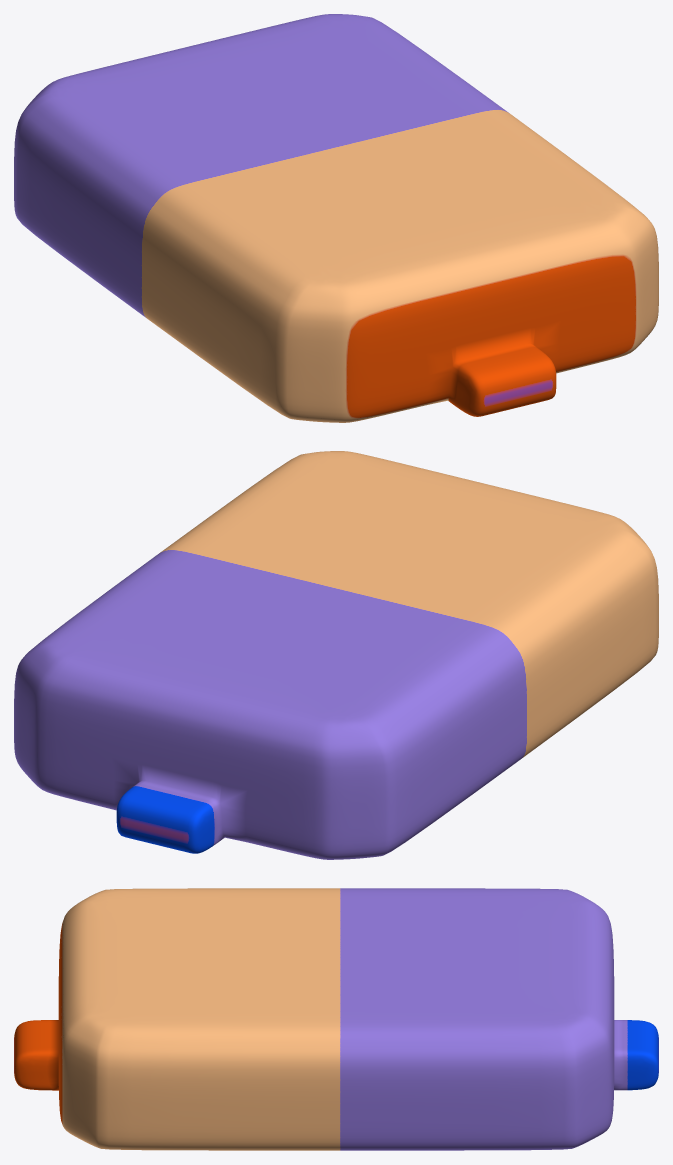
File: RLStage.fbx
3 renders of one model, top to bottom at view 1: azimuth 30°, elevation 25°; view 2: azimuth 150°, elevation 25°; view 3: azimuth 270°, elevation 25°, orthographic. The views are drawn at different scales.
Parts seen in each view (by area): view 1: Cube; view 2: Cube; view 3: Cube.
Part boxes in pixels (box(x1,y1,x2,y2)): Cube: box(14, 14, 658, 422); Cube: box(14, 451, 658, 859); Cube: box(14, 888, 658, 1150).
Bounding box in the file's own units: 246 × 402 × 80.06.
Materials: 1 (1 with a texture image).
